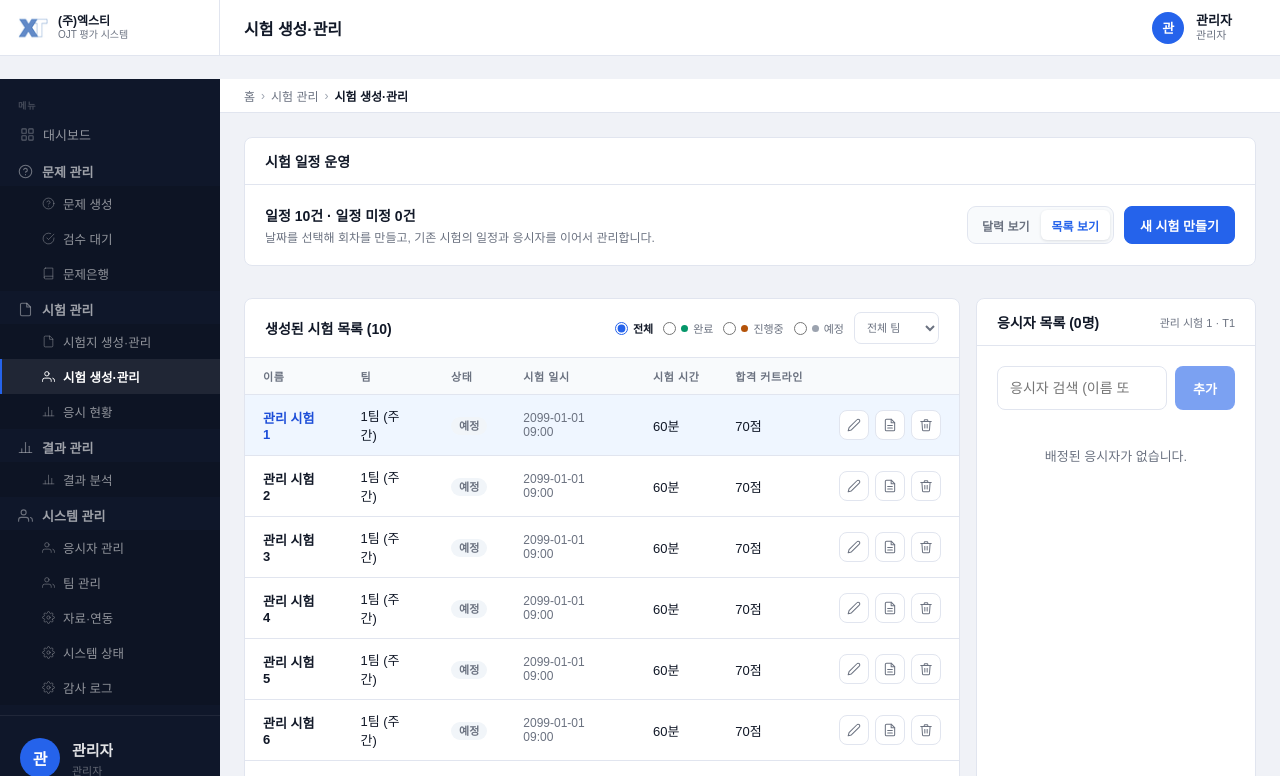
routed latest-main exam management › keeps official auto-move as a backend-driven success flow
Focus the field with placeholder "응시자 검색 (이름 또는 사번)" at [1082, 388], box [997,366,1167,410]
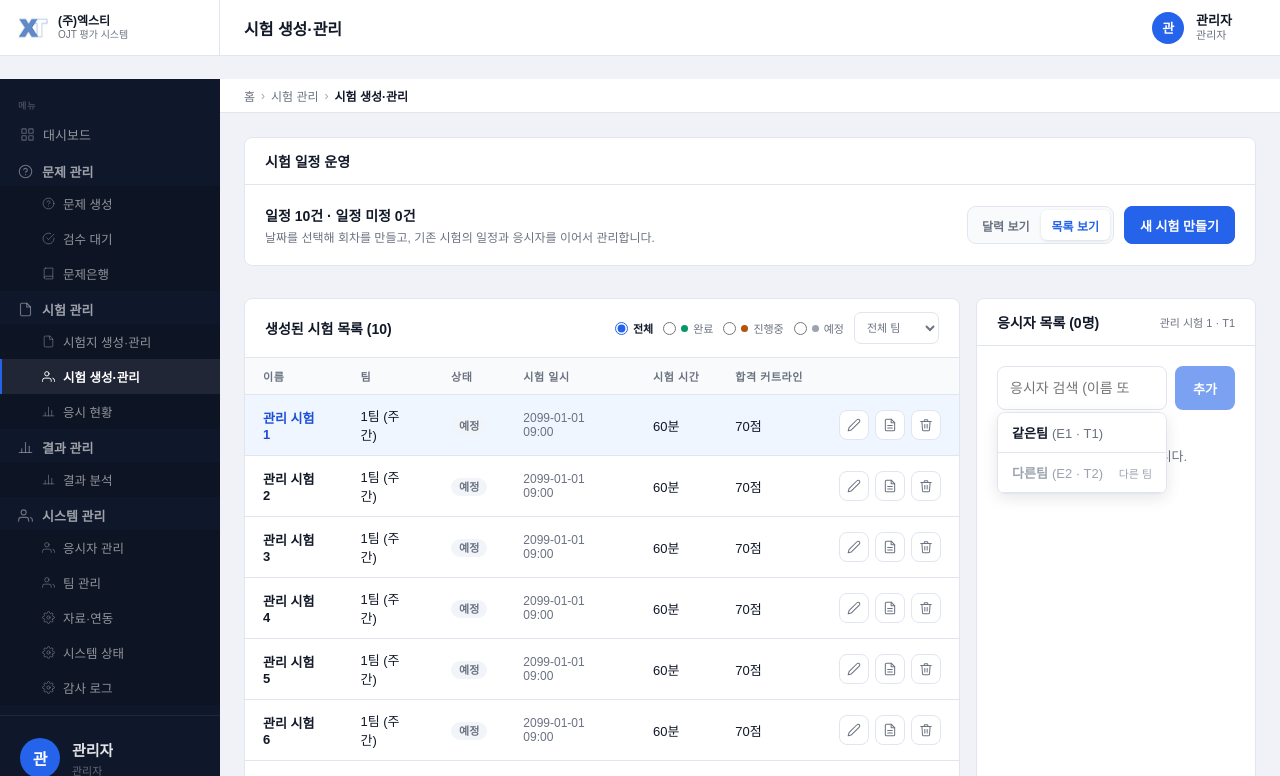
Press the mouse on the text "같은팀" at [1030, 434], box [1012,426,1048,441]
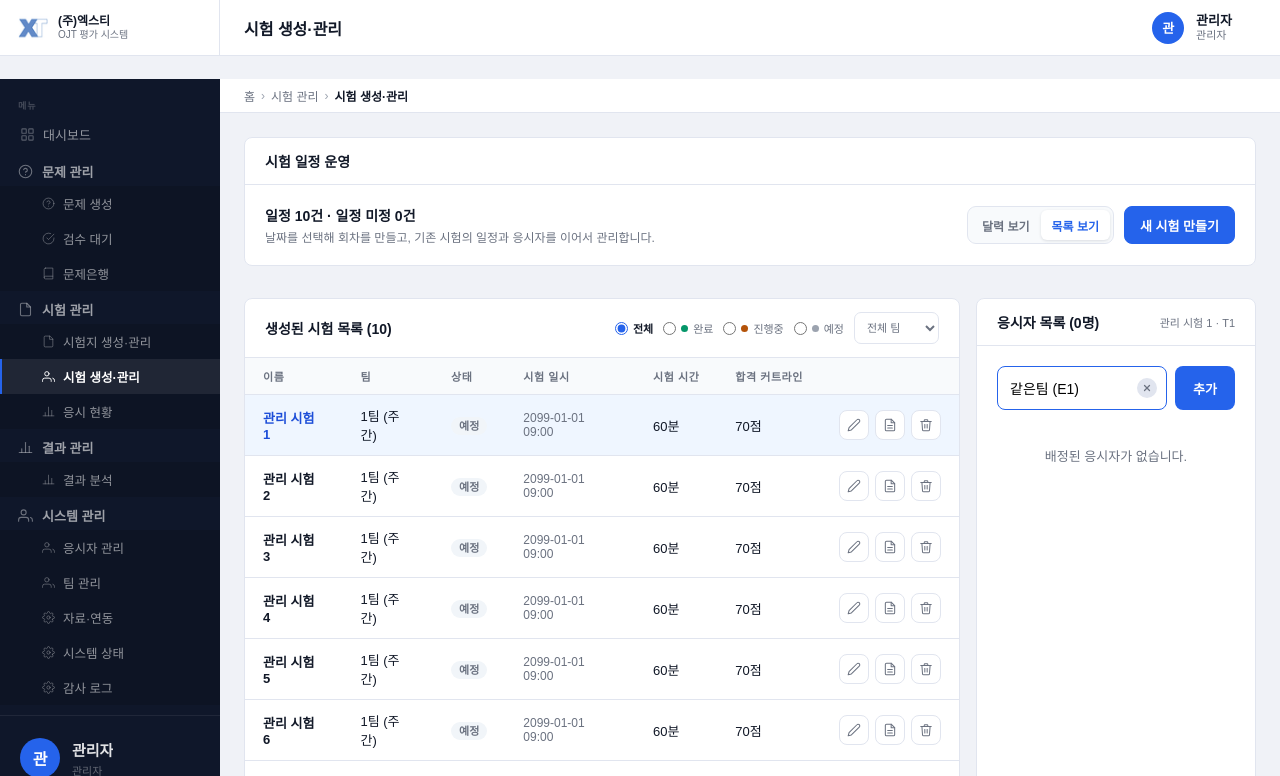
Click the button "추가".
click(1205, 388)  # box [1175,366,1235,410]
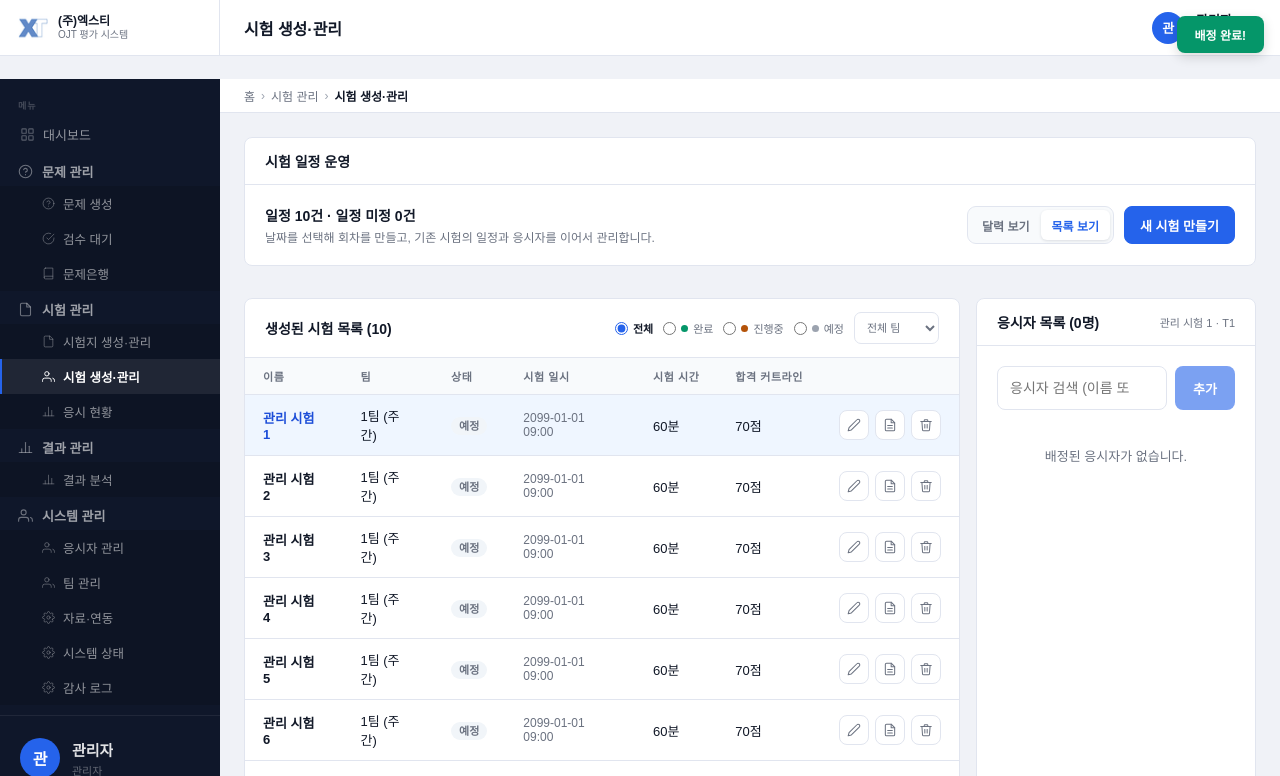
Result: the field with placeholder "응시자 검색 (이름 또는 사번)" is empty at [997,366,1167,410]
Result: the button "추가" is disabled at [1175,366,1235,410]
